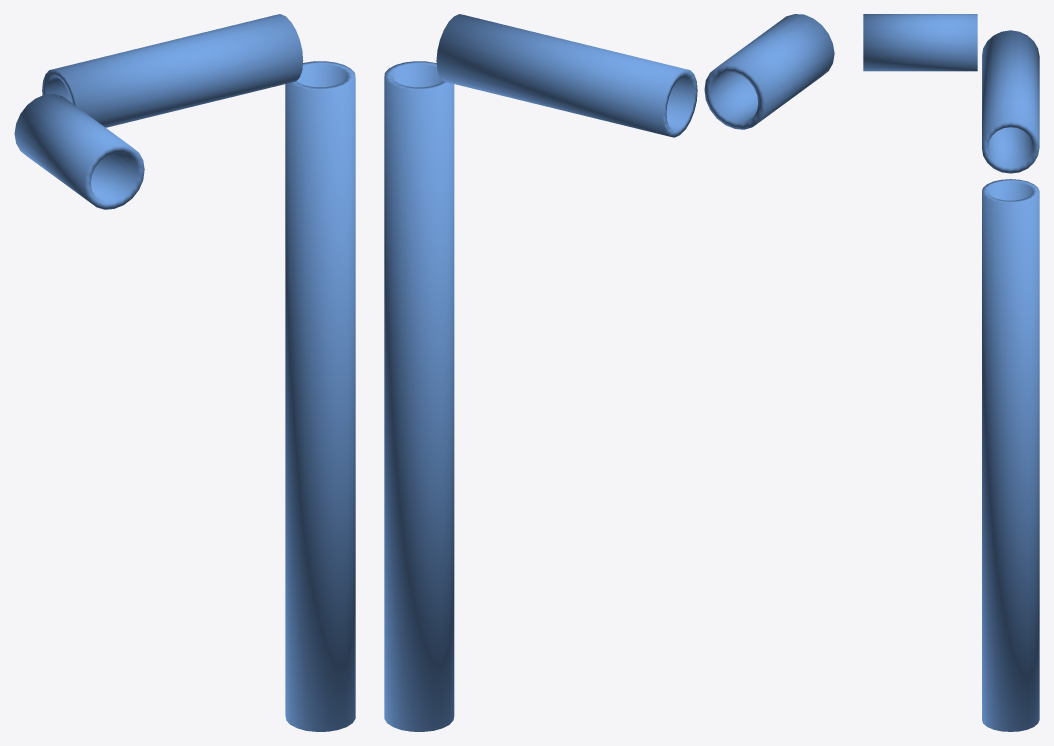
The model's file is slab_pipes_supply__plumbing__52b1e824.glb.
3 views of the same model, side by side, from view 1: azimuth 30°, elevation 25°; view 2: azimuth 150°, elevation 25°; view 3: azimuth 270°, elevation 25° (orthographic). The views are drawn at different scales.
Parts seen in each view (by area): view 1: pipe_supply_manifold_feed__pex.904; view 2: pipe_supply_manifold_feed__pex.904; view 3: pipe_supply_manifold_feed__pex.904.
Boxes of the visible parts, x1,y1,x2,y2 form: pipe_supply_manifold_feed__pex.904: [14, 14, 355, 731]; pipe_supply_manifold_feed__pex.904: [384, 14, 834, 731]; pipe_supply_manifold_feed__pex.904: [863, 14, 1039, 731].
Size of the model in its own units: 0.1302 by 0.2478 by 0.0677.
